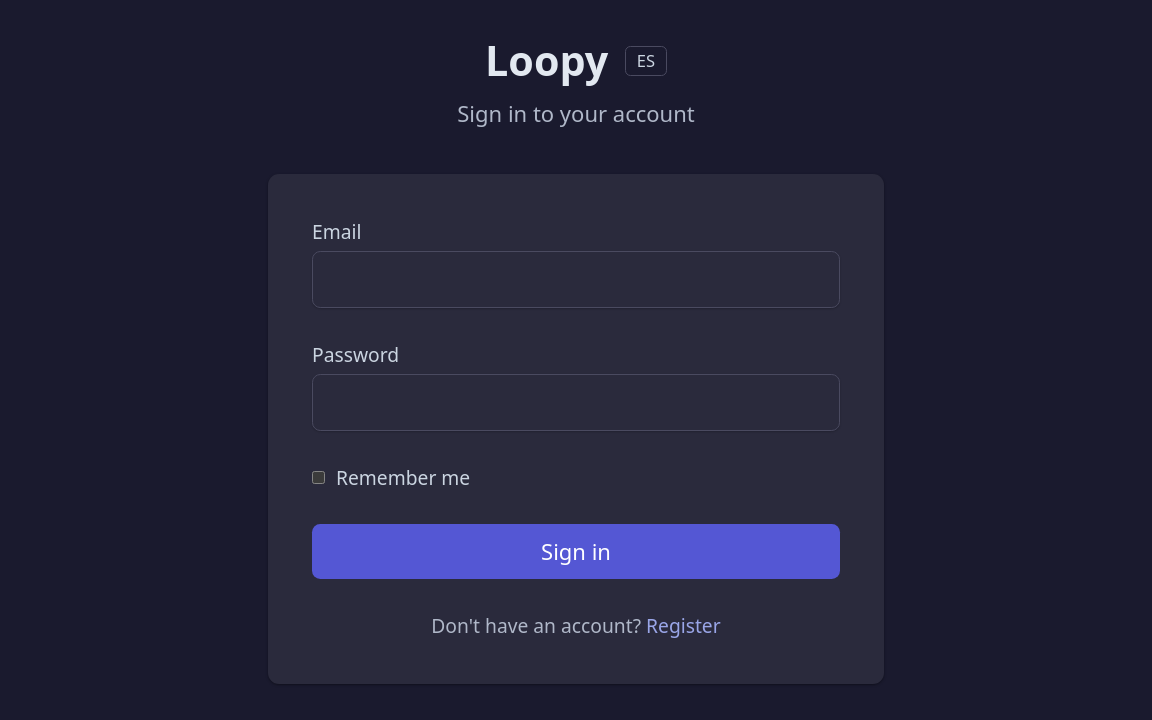
Test case: Router / Navigation Tests › Redirect after login › redirects to dashboard after successful login
Type "test@example.com" into the field labelled "Email" at (576, 279), box [312,251,840,308]
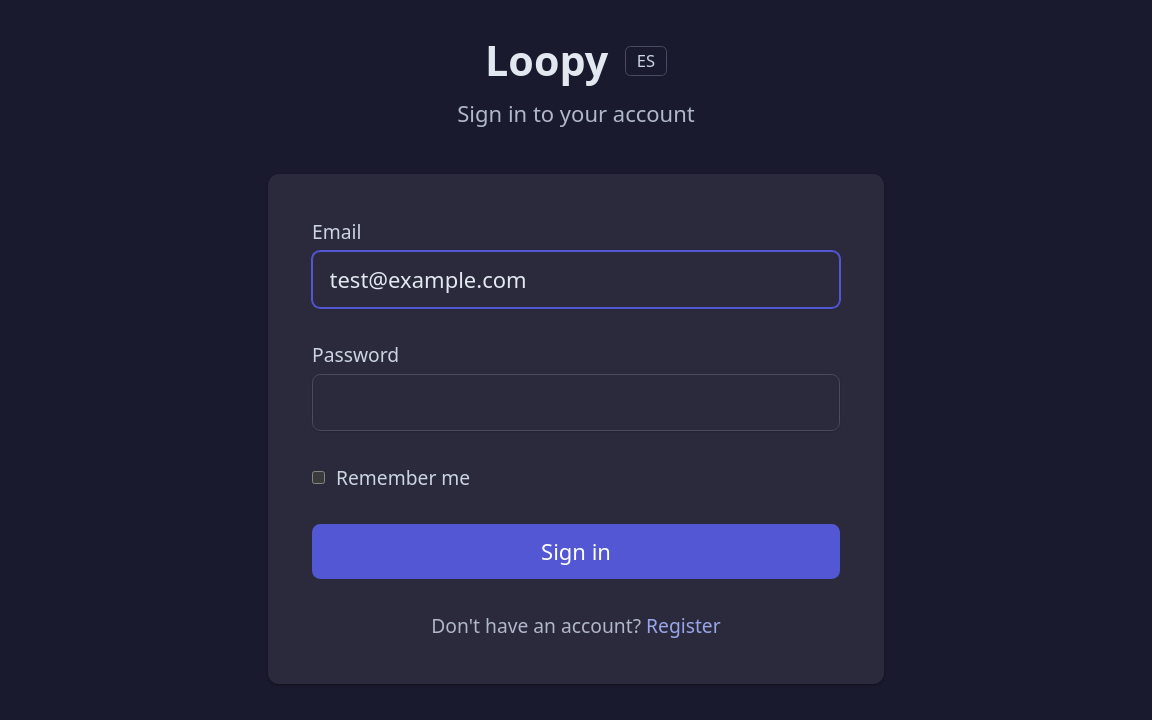
Type "password123" into the password field labelled "Password" at (576, 402), box [312,374,840,431]
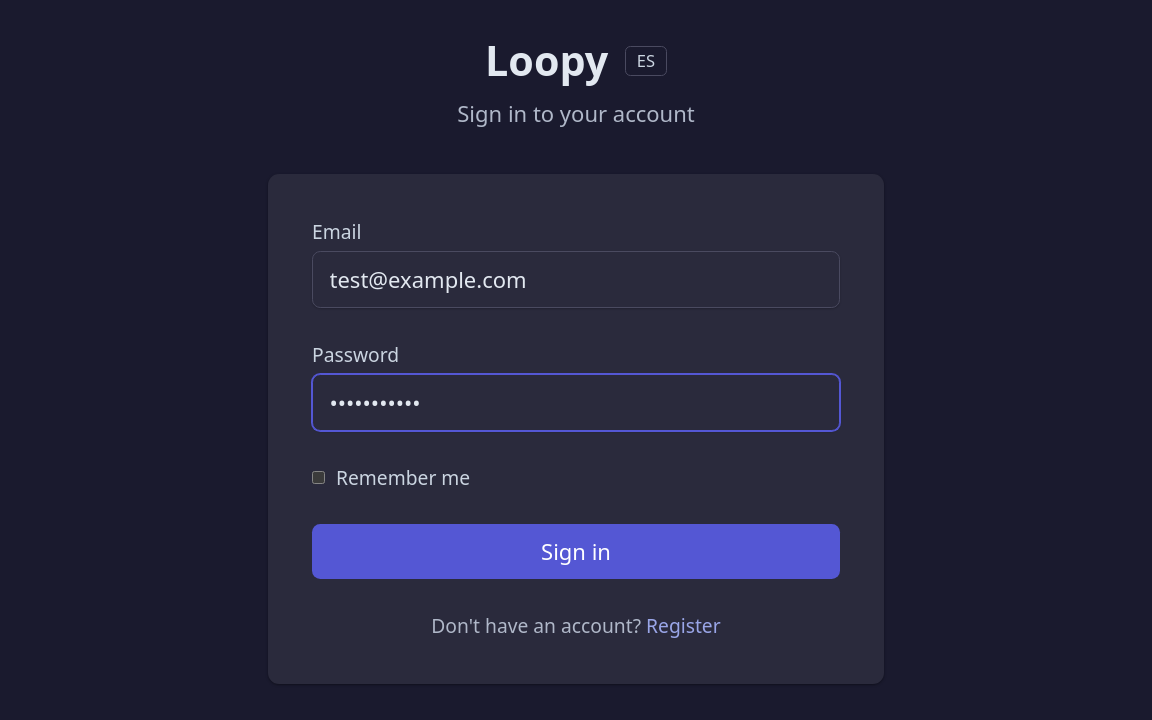
Click the button "Sign in" at (576, 552), box [312,524,840,579]
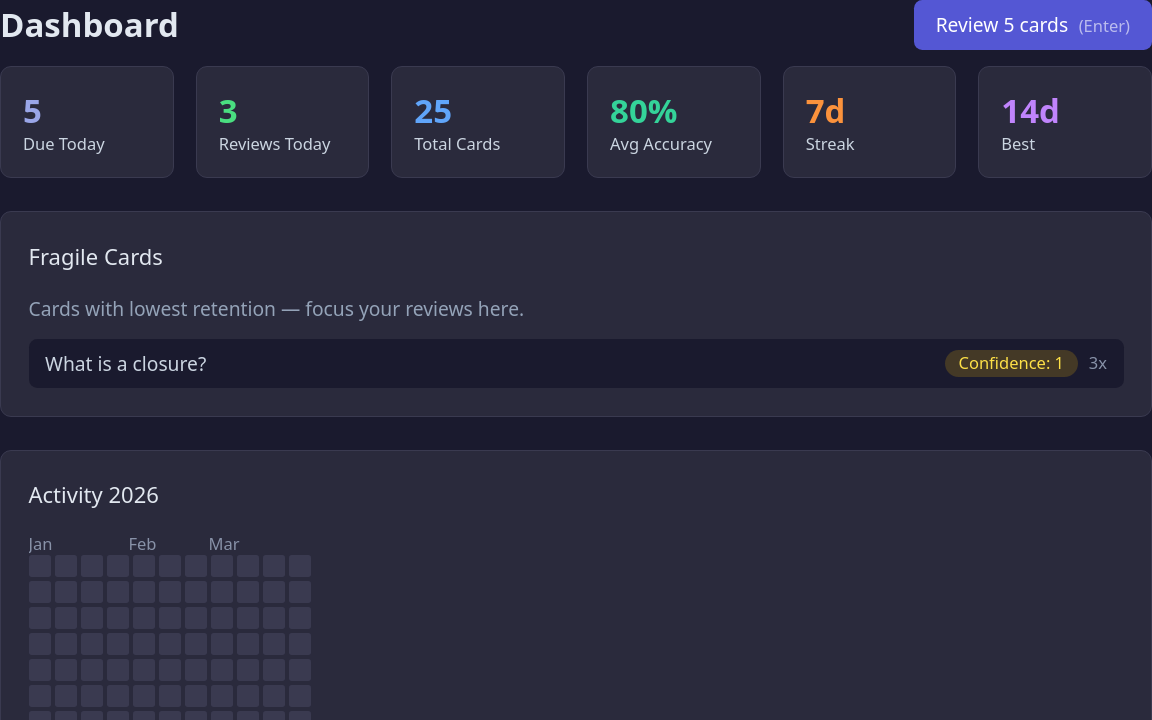
Result: the heading "Dashboard" is shown at [0,3,179,47]
